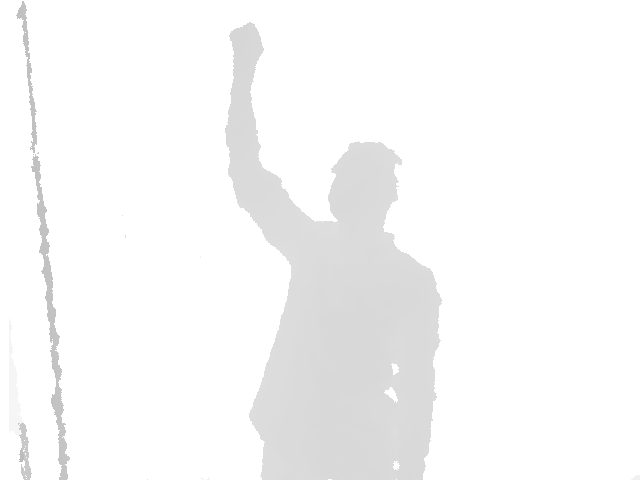hand: (228, 22, 264, 68)
head: (327, 141, 403, 229)
person: (224, 22, 442, 480)
